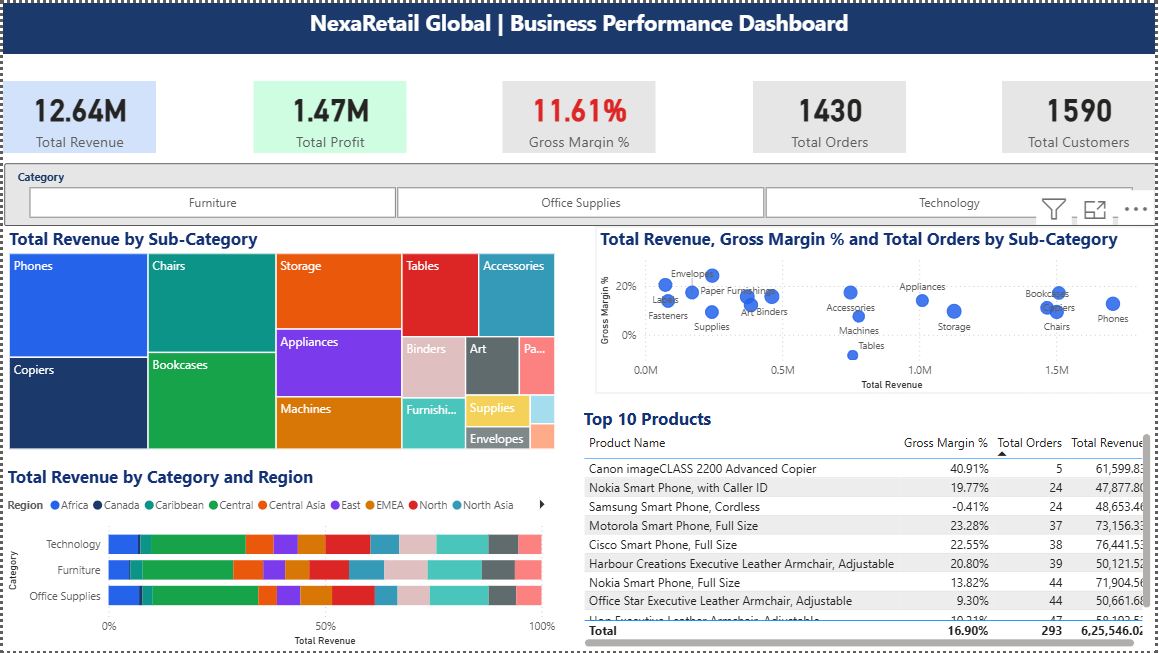

Layout of this report page (visuals, bound fields, positions):
{"tool":"powerbi","page":{"name":"Product Analysis","canvas":[1280,720],"ordinal":2},"visuals":[{"type":"slicer","fields":{"Values":["orders_cleaned.Category"]},"box":[1.6,178.1,1279.2,69.6],"z":0},{"type":"treemap","fields":{"Group":["orders_cleaned.Sub-Category"],"Values":["_Measures.Total Revenue"]},"box":[2,248,616,252],"z":1000},{"type":"scatterChart","fields":{"X":["_Measures.Total Revenue"],"Y":["_Measures.Gross Margin %"],"Category":["orders_cleaned.Sub-Category"],"Size":["_Measures.Total Orders"]},"box":[658,248,622,186],"z":2000},{"type":"card","fields":{"Values":["_Measures.Total Revenue"]},"box":[0,86.7,170,80],"z":3000},{"type":"card","fields":{"Values":["_Measures.Total Customers"]},"box":[1110,86.7,170,80],"z":4000},{"type":"card","fields":{"Values":["_Measures.Total Orders"]},"box":[832.5,86.7,170,80],"z":5000},{"type":"card","fields":{"Values":["_Measures.Total Profit"]},"box":[277.5,86.7,170,80],"z":7000},{"type":"textbox","box":[0,0,1280,56.7],"z":8000},{"type":"hundredPercentStackedBarChart","fields":{"Category":["orders_cleaned.Category"],"Y":["_Measures.Total Revenue"],"Series":["orders_cleaned.Region"]},"box":[0,514,618,206],"z":9000},{"type":"tableEx","title":"Top 10 Products","fields":{"Values":["orders_cleaned.Product Name","_Measures.Gross Margin %","_Measures.Total Orders","_Measures.Total Revenue"]},"box":[640,448,640,272],"z":10000},{"type":"card","fields":{"Values":["_Measures.Gross Margin %"]},"box":[555,86.7,170,80],"z":11001}]}

Visuals, with their boxes in screenshot pixels (x1, y1, x2, y2), scaled from the page's 1280x720 canvas onto the 1159x653 screenshot:
slicer - orders_cleaned.Category: 1 162 1158 225
treemap - orders_cleaned.Sub-Category x _Measures.Total Revenue: 2 225 560 453
scatterChart - _Measures.Total Revenue x _Measures.Gross Margin %: 596 225 1158 394
card - _Measures.Total Revenue: 0 79 154 151
card - _Measures.Total Customers: 1005 79 1158 151
card - _Measures.Total Orders: 754 79 908 151
card - _Measures.Total Profit: 251 79 405 151
textbox: 0 0 1158 51
hundredPercentStackedBarChart - orders_cleaned.Category x _Measures.Total Revenue: 0 466 560 652
"Top 10 Products" tableEx: 580 406 1158 652
card - _Measures.Gross Margin %: 503 79 656 151
